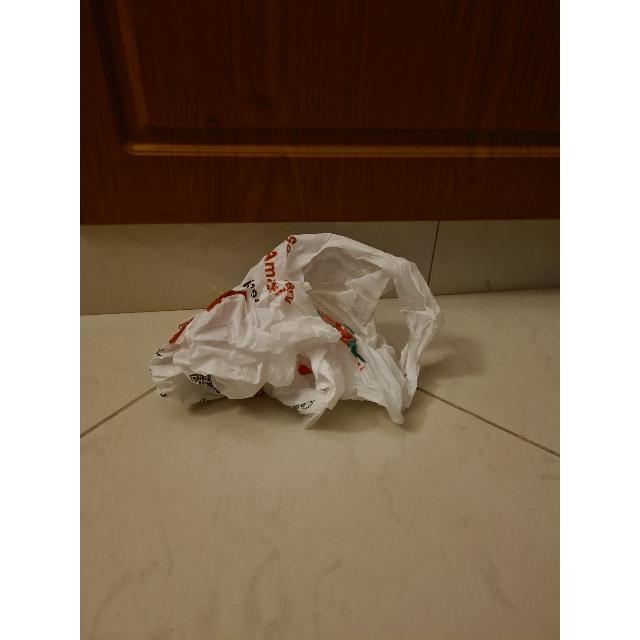Bolsa-de-nilon: (150, 234, 441, 427)
